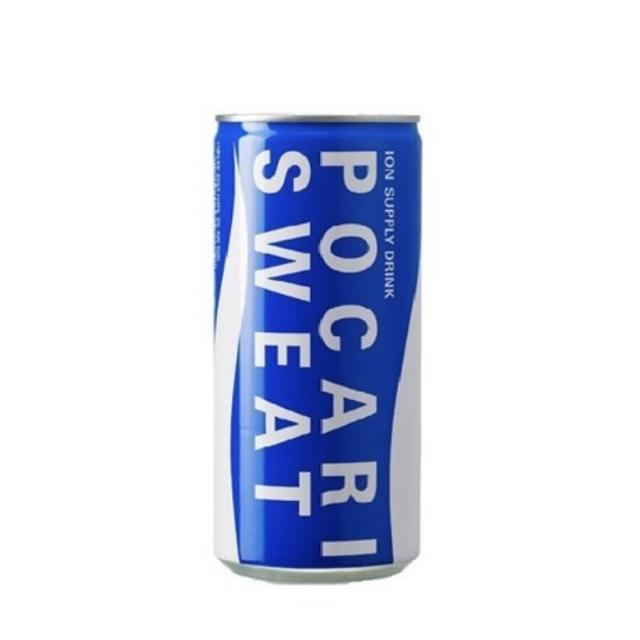recyclable: (164, 83, 456, 597)
